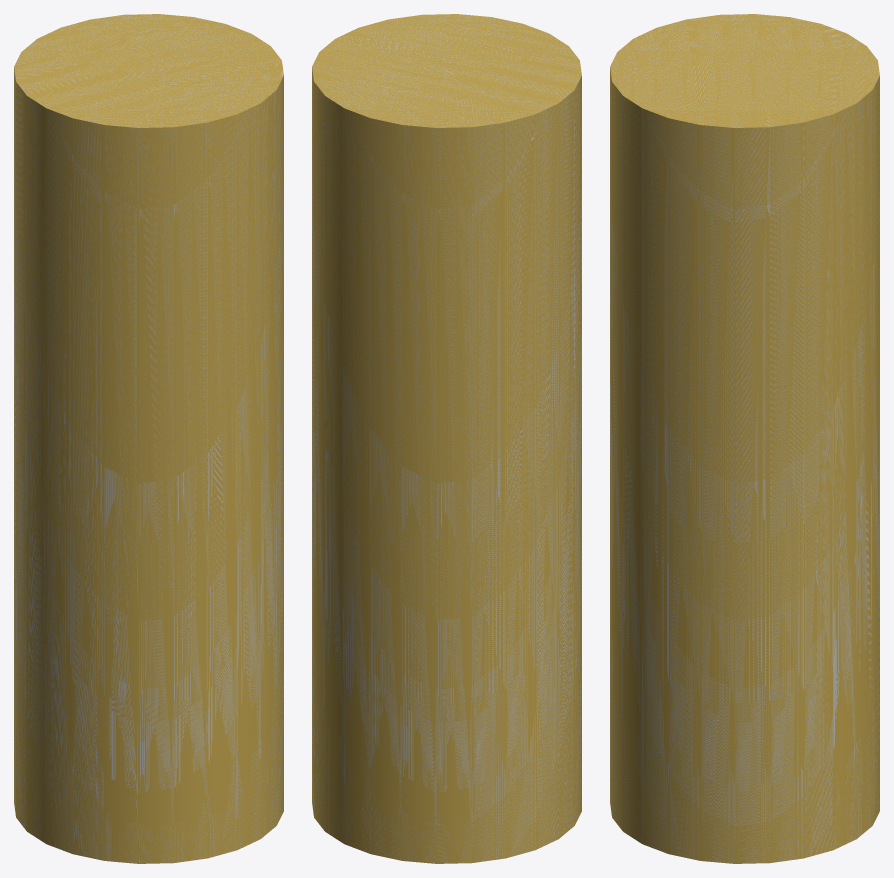
Rendered from original-92.obj.
3 views of the same model, side by side, from view 1: azimuth 30°, elevation 25°; view 2: azimuth 150°, elevation 25°; view 3: azimuth 270°, elevation 25° (orthographic).
Visible parts, largest first — view 1: Component_8_10/Component_8/mesh17/mesh17-geometry#mesh17-geometr; view 2: Component_8_10/Component_8/mesh17/mesh17-geometry#mesh17-geometr; view 3: Component_8_10/Component_8/mesh17/mesh17-geometry#mesh17-geometr.
Boxes of the visible parts, left/top/right/bottom form: Component_8_10/Component_8/mesh17/mesh17-geometry#mesh17-geometr: left=14, top=14, right=283, bottom=863; Component_8_10/Component_8/mesh17/mesh17-geometry#mesh17-geometr: left=312, top=14, right=581, bottom=863; Component_8_10/Component_8/mesh17/mesh17-geometry#mesh17-geometr: left=610, top=14, right=879, bottom=863.
Size of the model in its own units: 0.00655 by 0.0197 by 0.00655.
